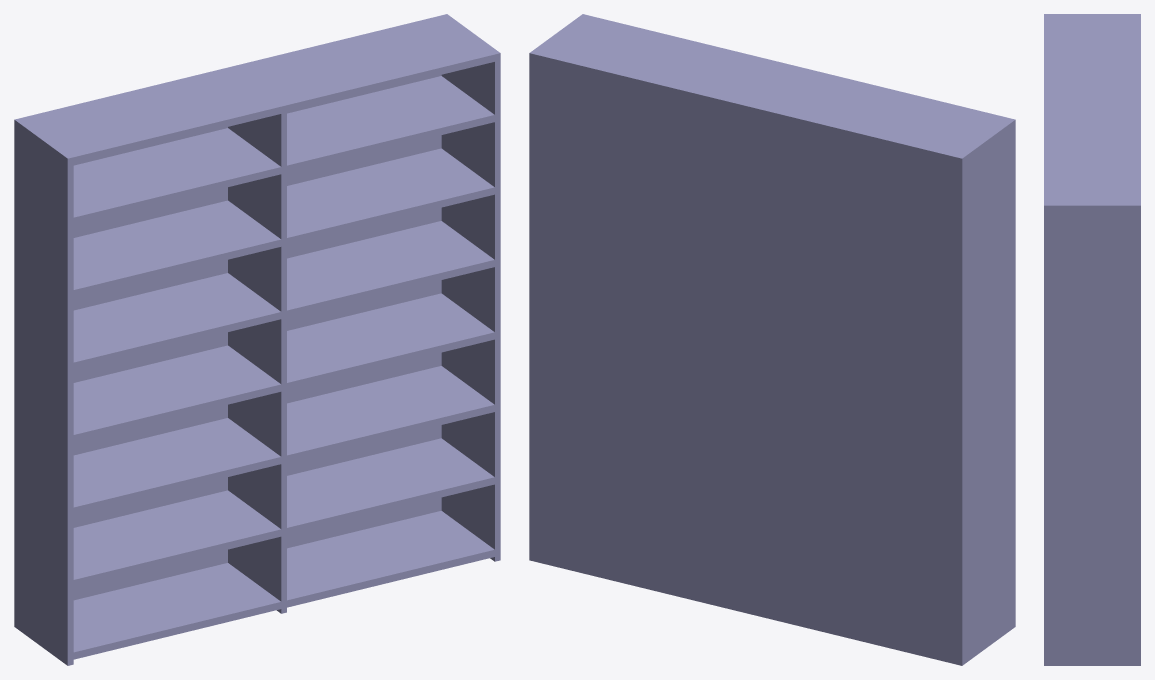
File: shelves2.fbx
3 views of the same model, side by side, from view 1: azimuth 30°, elevation 25°; view 2: azimuth 150°, elevation 25°; view 3: azimuth 270°, elevation 25° (orthographic). The views are drawn at different scales.
Visible parts, largest first — view 1: Group_17_1, Group_17_3, Group_17_2, Group1, Group2, Group_19_8, Group_19_12, Group_19_2, Group_19_3, Group_19_4, Group_19_5, Group_19_6 (+9 smaller); view 2: Group1, Group2, Group_17_1, Group_19_12, Group_19_8; view 3: Group_17_3, Group_19_8, Group_19_12, Group2, Group_17_1, Group_17_2.
Boxes of the visible parts, x1,y1,x2,y2 form: Group_17_1: (14, 118, 73, 665); Group_17_3: (441, 14, 500, 561); Group_17_2: (228, 66, 286, 613); Group1: (14, 66, 232, 626); Group2: (236, 14, 446, 548); Group_19_8: (20, 67, 281, 164); Group_19_12: (234, 15, 494, 112); Group_19_2: (73, 345, 281, 441); Group_19_3: (73, 273, 281, 369); Group_19_4: (73, 200, 281, 297); Group_19_5: (73, 563, 281, 659); Group_19_6: (73, 418, 281, 514); Group1: (743, 105, 962, 665); Group2: (529, 53, 742, 612); Group_17_1: (957, 118, 1015, 665); Group_19_12: (535, 15, 795, 104); Group_19_8: (749, 67, 1009, 156); Group_17_3: (1044, 203, 1140, 665); Group_19_8: (1044, 16, 1140, 108); Group_19_12: (1044, 111, 1140, 202); Group2: (1140, 111, 1140, 665); Group_17_1: (1044, 14, 1140, 16); Group_17_2: (1044, 108, 1140, 110).
Size of the model in its own units: 188 by 210 by 40.1.
